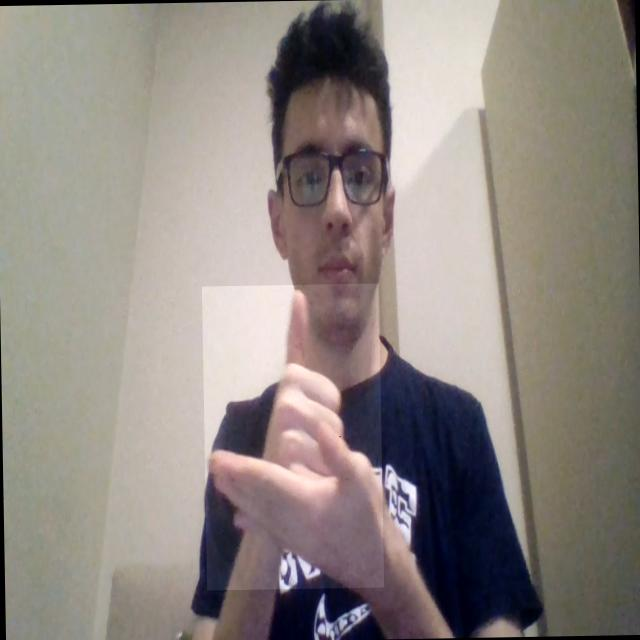help: (202, 284, 384, 590)
